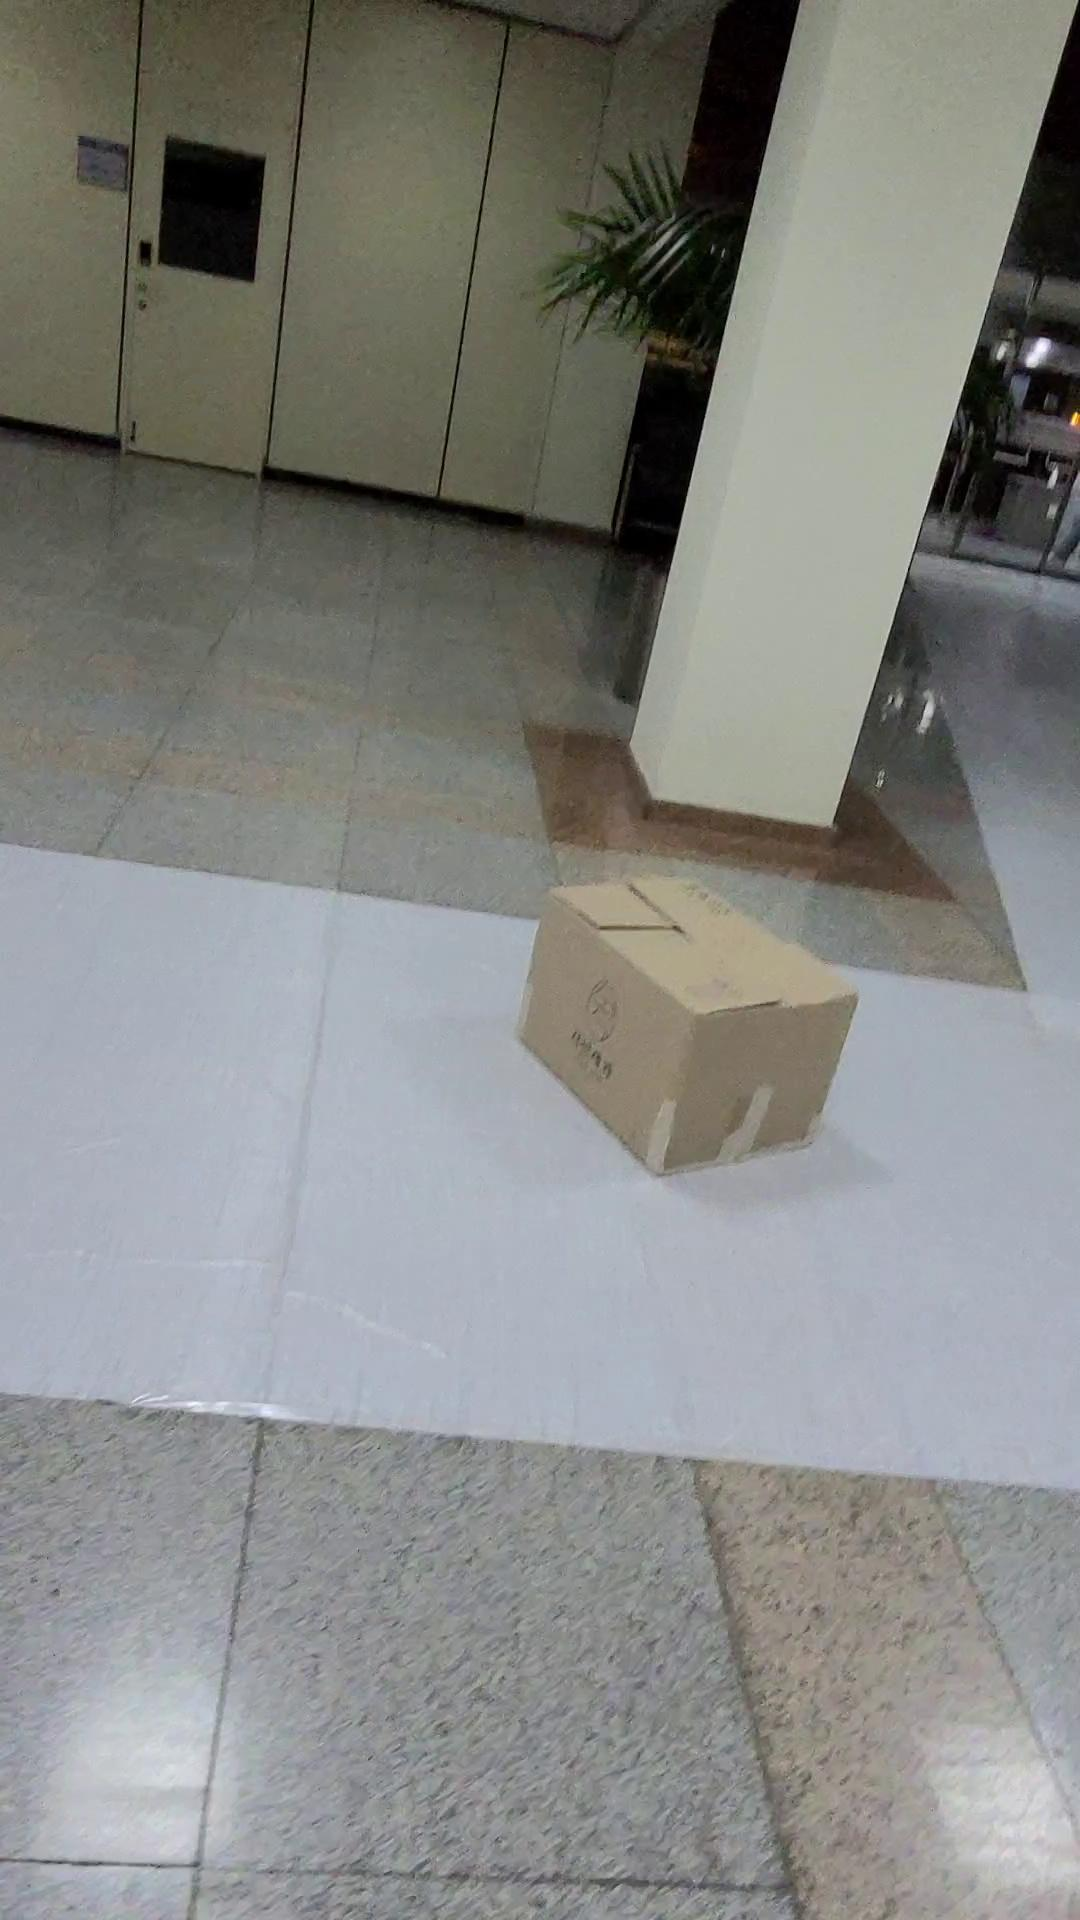Box: (487, 837, 882, 1208)
